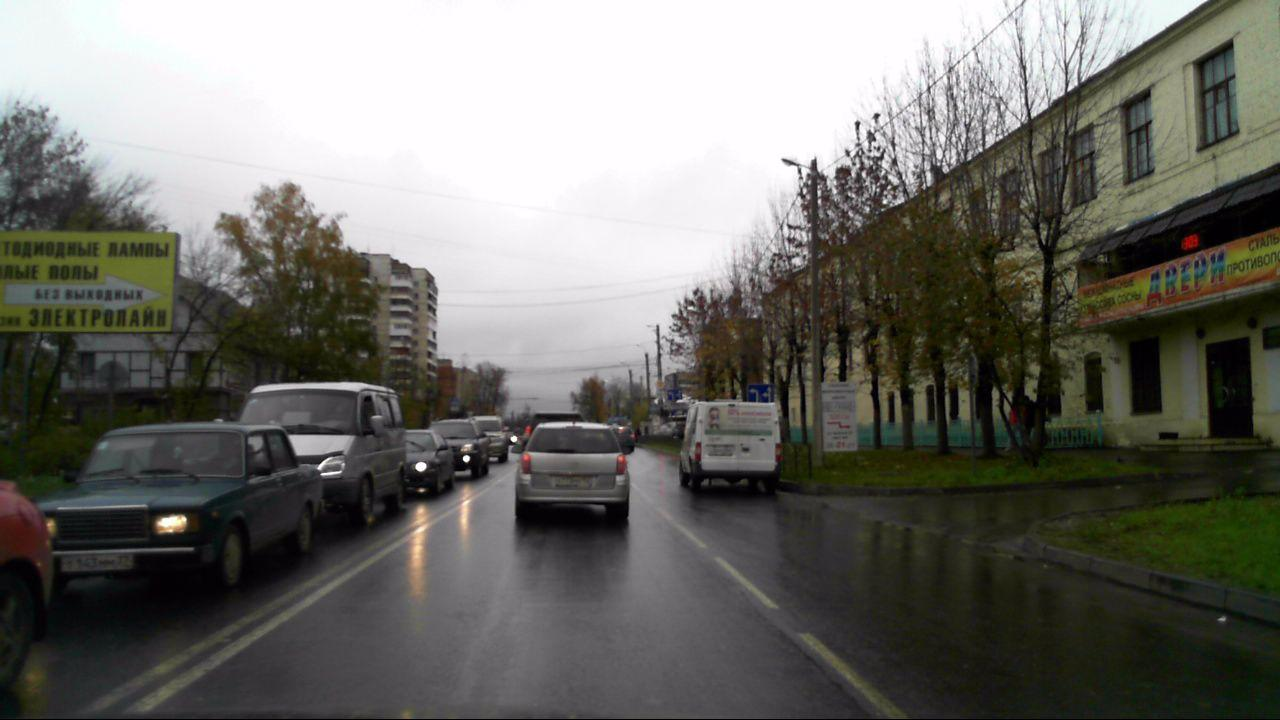5_15_1: (746, 384, 774, 405)
